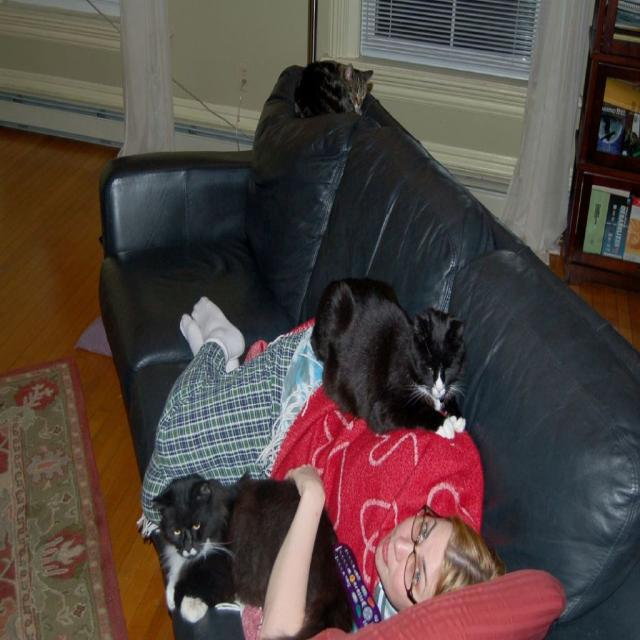Cat: (146, 475, 354, 637), (309, 277, 465, 441), (294, 56, 374, 115)
